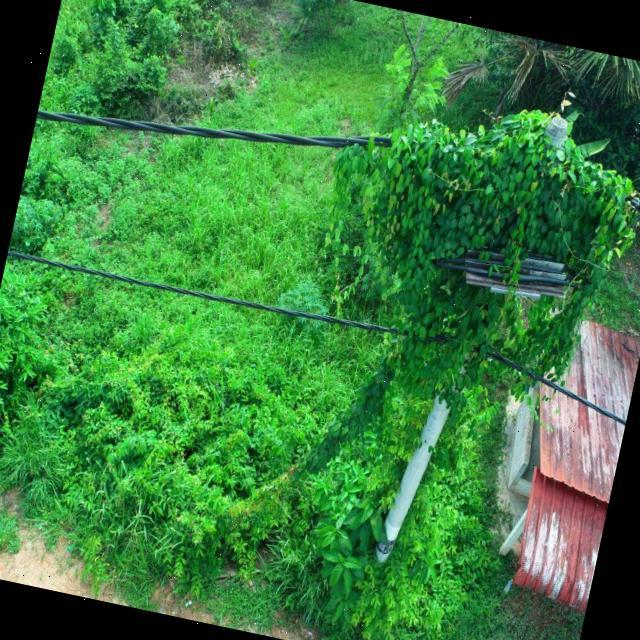critical vegetation: (279, 63, 640, 542)
